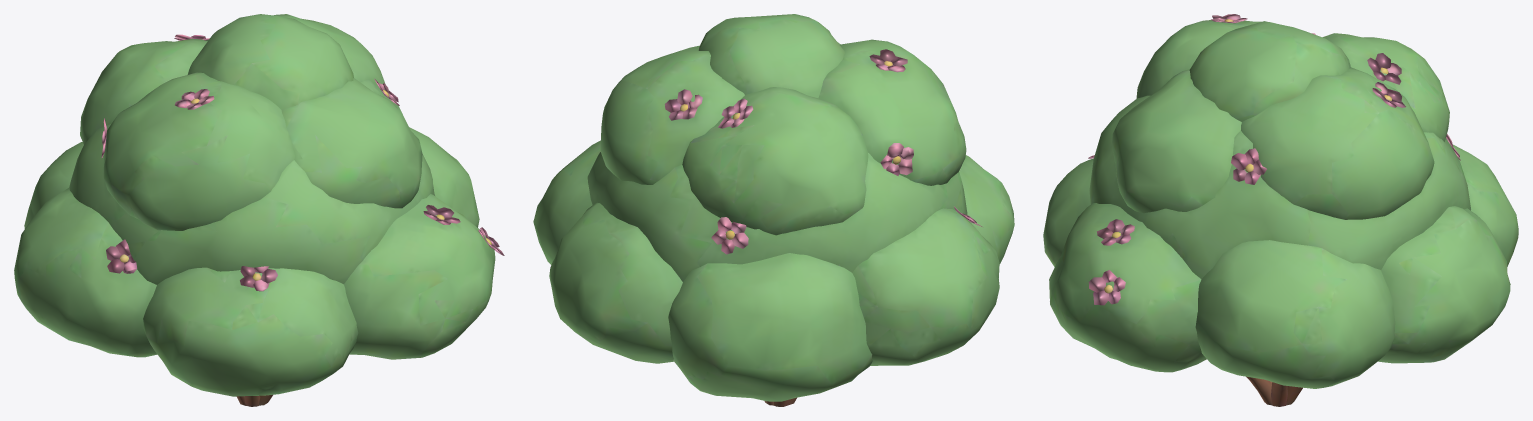
The model's file is bush.glb.
3 views of the same model, side by side, from view 1: azimuth 30°, elevation 25°; view 2: azimuth 150°, elevation 25°; view 3: azimuth 270°, elevation 25° (orthographic).
Visible parts, largest first — view 1: bush_body; view 2: bush_body; view 3: bush_body.
Boxes of the visible parts, x1=… form: bush_body: x1=14, y1=14, x2=504, y2=406; bush_body: x1=533, y1=14, x2=1014, y2=406; bush_body: x1=1043, y1=14, x2=1518, y2=406.
Size of the model in its own units: 1.33 by 1.09 by 1.26.
Materials: 1 (1 with a texture image).
